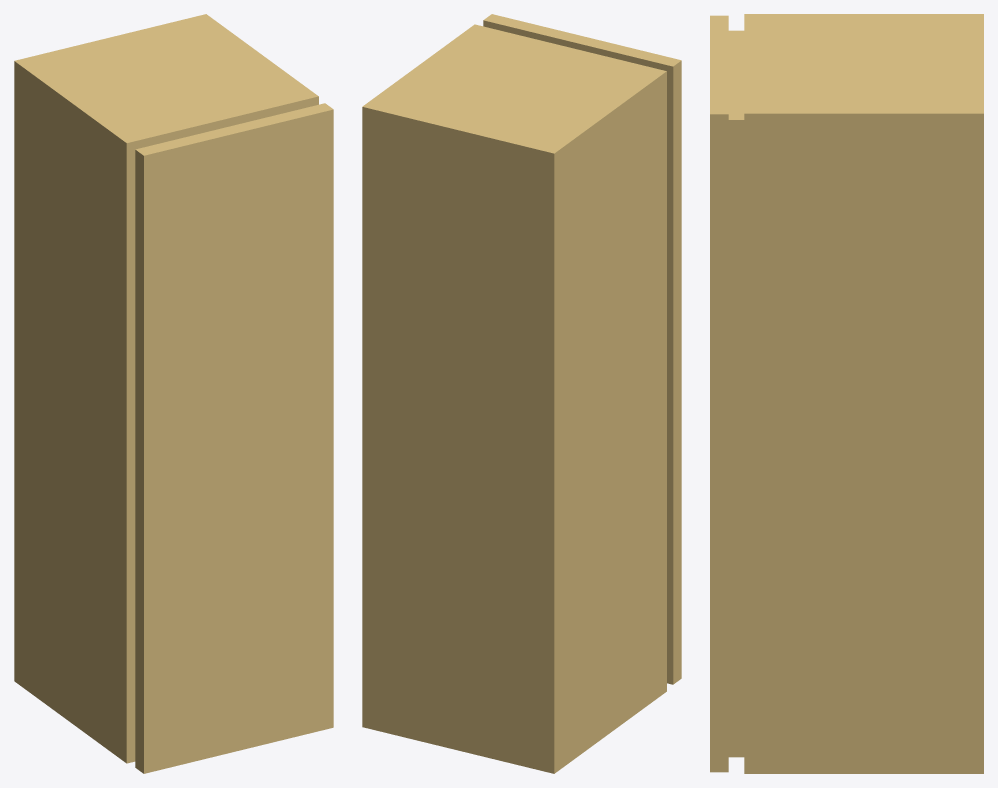
File: closet.fbx
3 renders of one model, left to right at view 1: azimuth 30°, elevation 25°; view 2: azimuth 150°, elevation 25°; view 3: azimuth 270°, elevation 25°, orthographic. The views are drawn at different scales.
Visible parts, largest first — view 1: Cube.010; view 2: Cube.010; view 3: Cube.010.
Part boxes in pixels (x1,y1,x2,y2): Cube.010: [14, 14, 333, 773]; Cube.010: [362, 14, 681, 773]; Cube.010: [710, 14, 983, 773].
Bounding box in the file's own units: 138 × 425 × 160.
